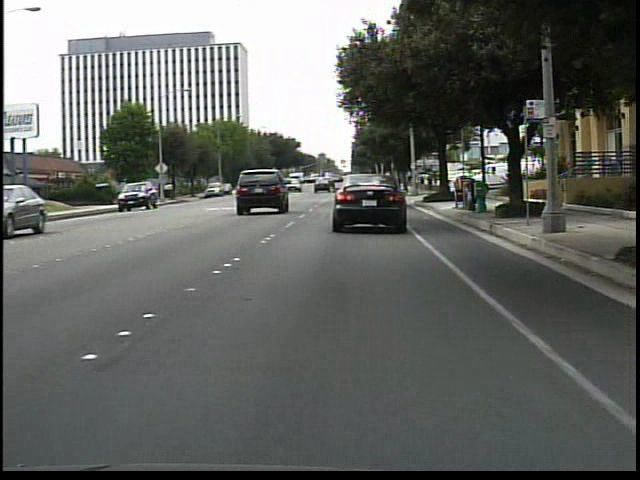person: (417, 172, 427, 193), (426, 174, 435, 194)
